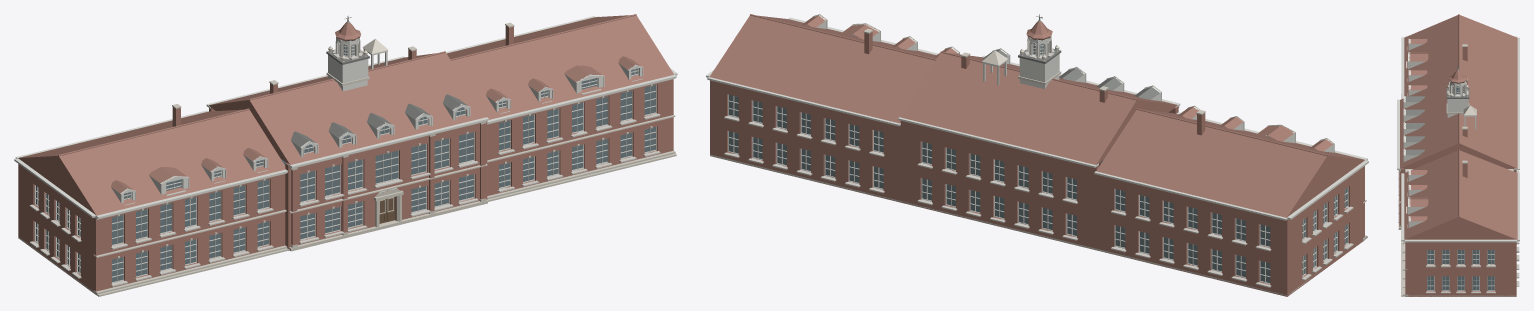
The model's file is xuhui-shanghai-american-school-main-raw.glb.
The picture shows the model from 3 angles, left to right: view 1: azimuth 30°, elevation 25°; view 2: azimuth 150°, elevation 25°; view 3: azimuth 270°, elevation 25°; orthographic projection. The views are drawn at different scales.
Parts seen in each view (by area): view 1: 美童公学主楼（衡山路10号）; view 2: 美童公学主楼（衡山路10号）; view 3: 美童公学主楼（衡山路10号）.
Boxes of the visible parts, box(x1,y1,x2,y2) form: 美童公学主楼（衡山路10号）: box(14, 14, 677, 296); 美童公学主楼（衡山路10号）: box(706, 14, 1368, 296); 美童公学主楼（衡山路10号）: box(1397, 14, 1519, 296).
Size of the model in its own units: 75.46 by 22.46 by 19.11.
